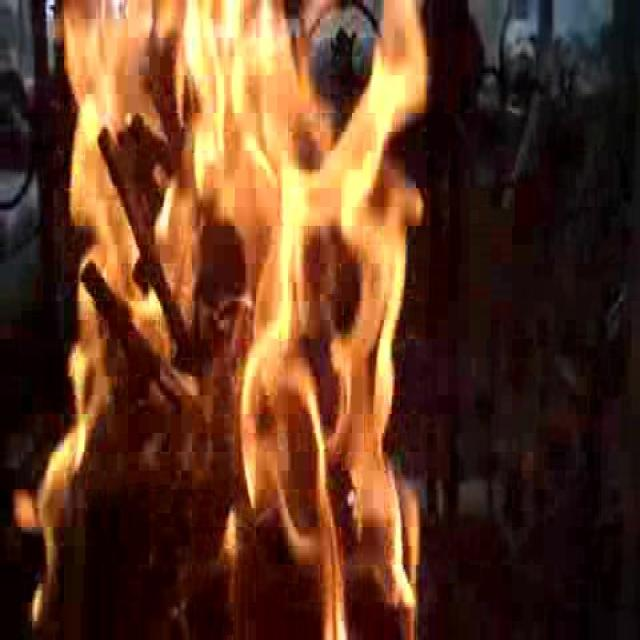fire: (45, 8, 422, 627)
